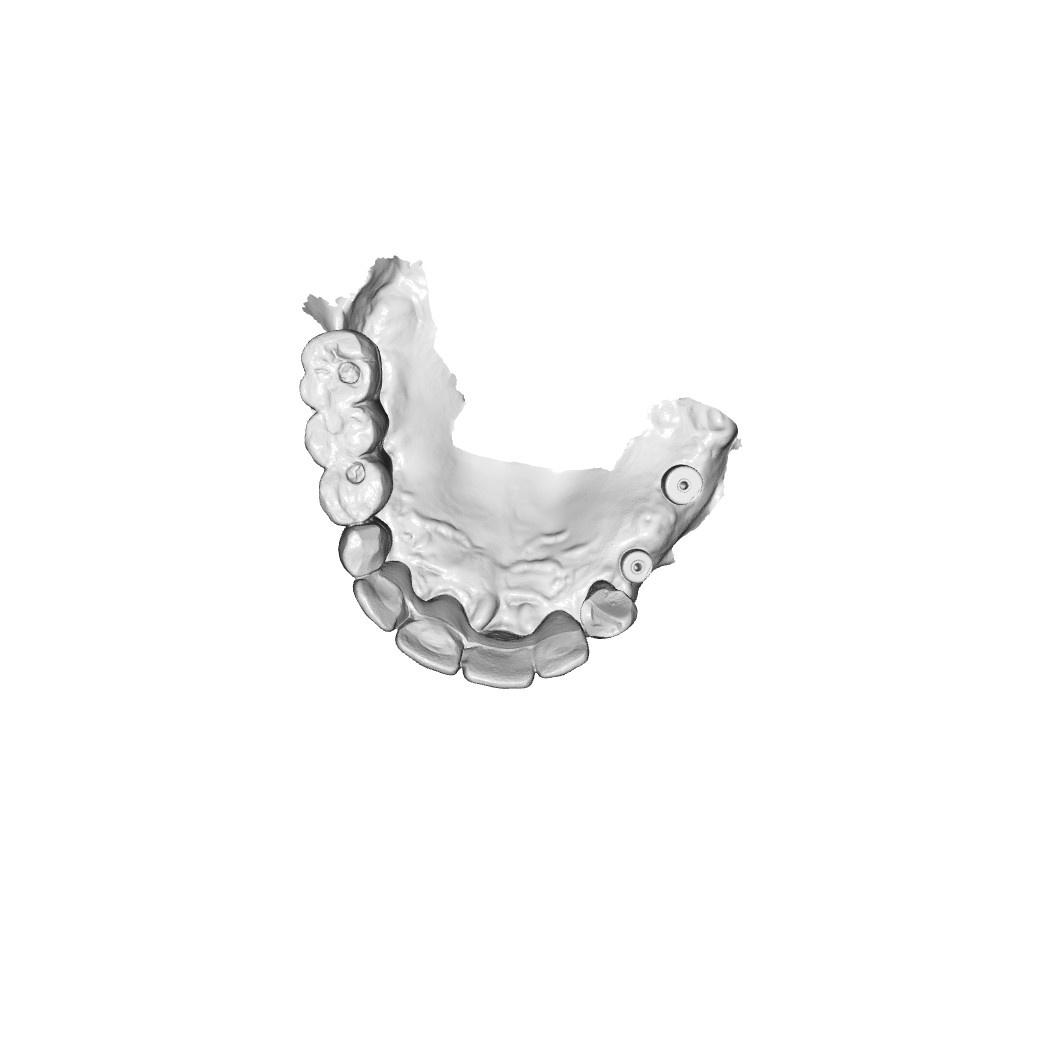canine: (339, 522, 393, 577), (586, 583, 637, 632)
implant: (662, 463, 703, 505), (616, 545, 657, 584)
incisor: (398, 597, 464, 669), (464, 634, 540, 694), (531, 609, 593, 682), (353, 565, 412, 634)
molar: (296, 331, 376, 411)
premolar: (310, 458, 395, 529), (306, 403, 385, 468)
